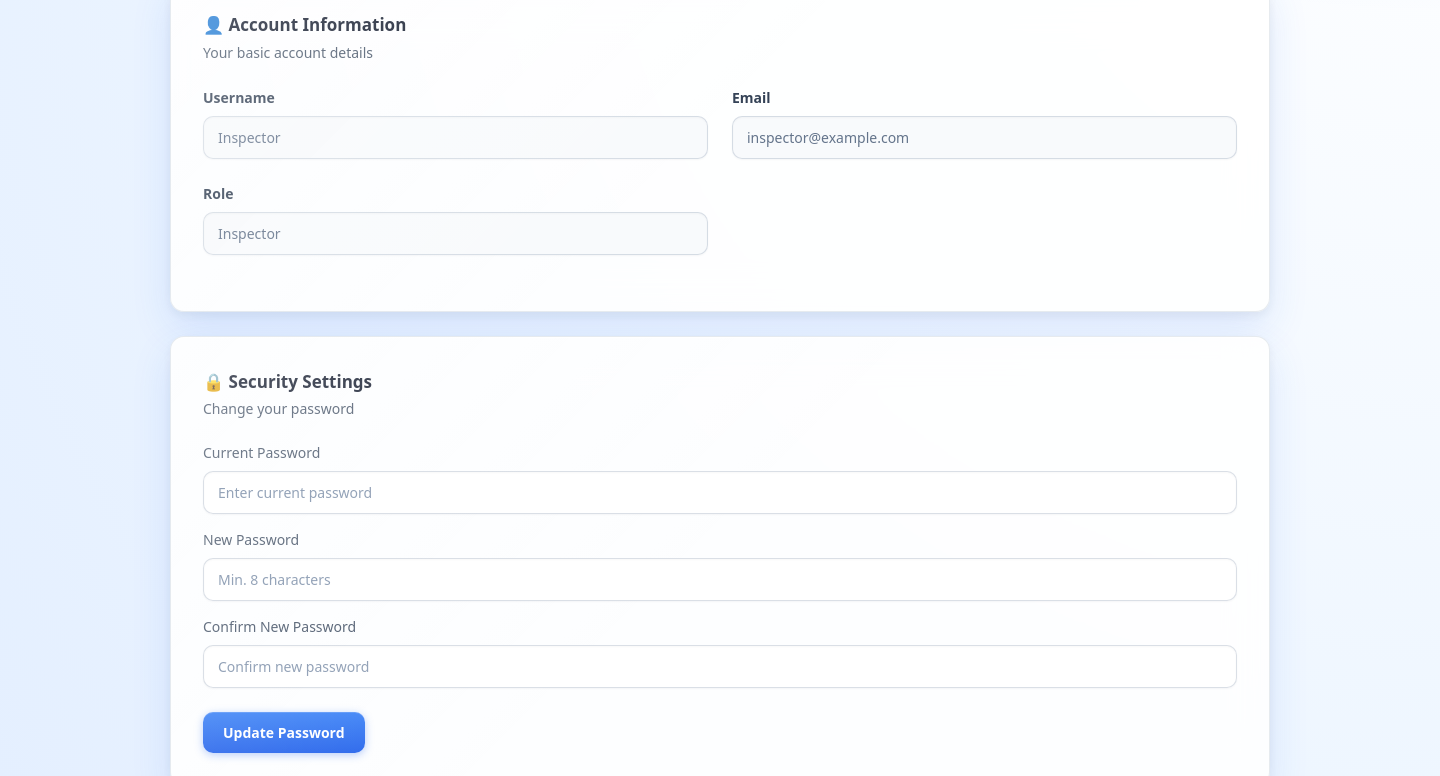
it: feature page integrations › uses stored inspector profile data and validates a new password
(page scrolled)
expect the number of fields showing "Inspector" is 2: met, box [203,116,708,158]; [203,212,708,254]
Type "short" into the password field labelled "New Password" at (720, 580), box [203,558,1237,601]
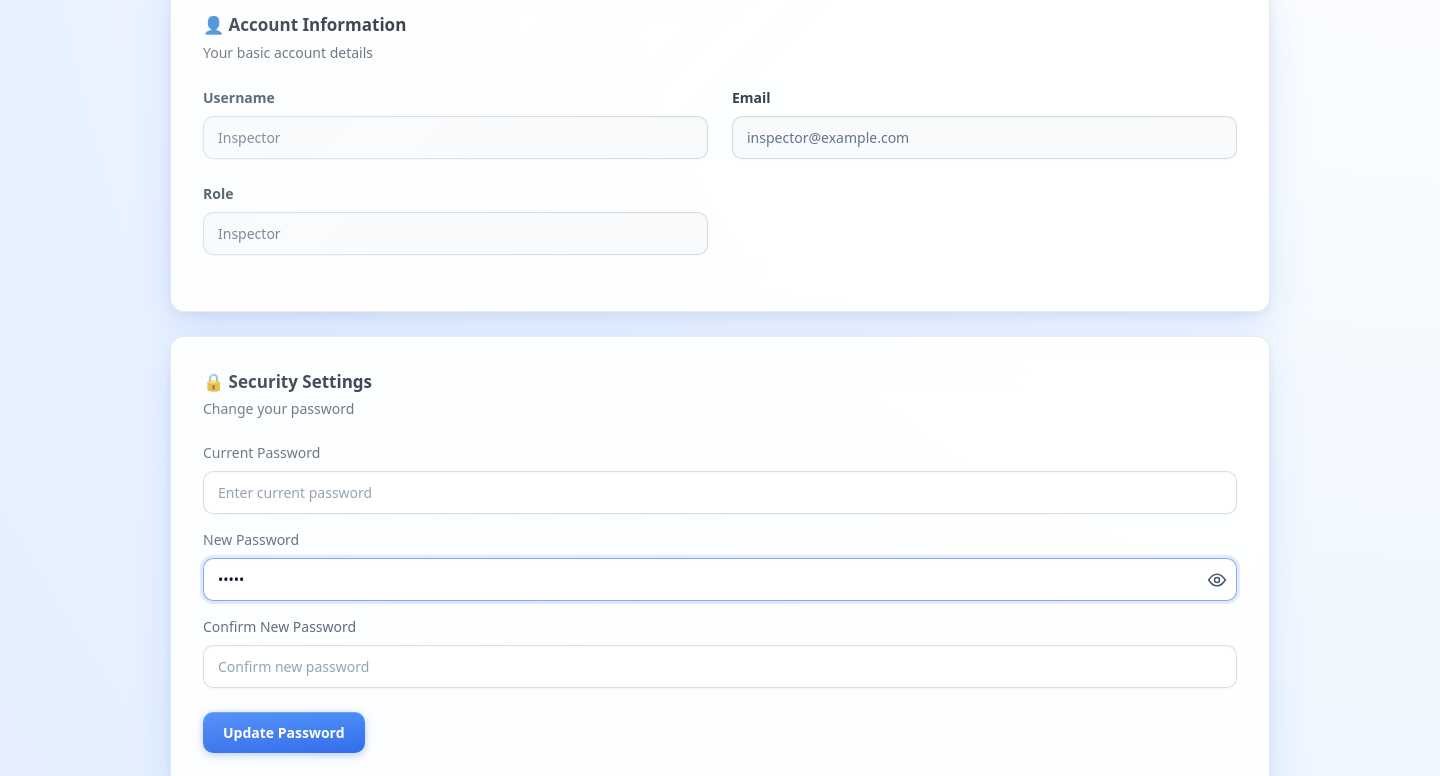
Click the button "Update Password" at (284, 732), box [203,712,364,753]
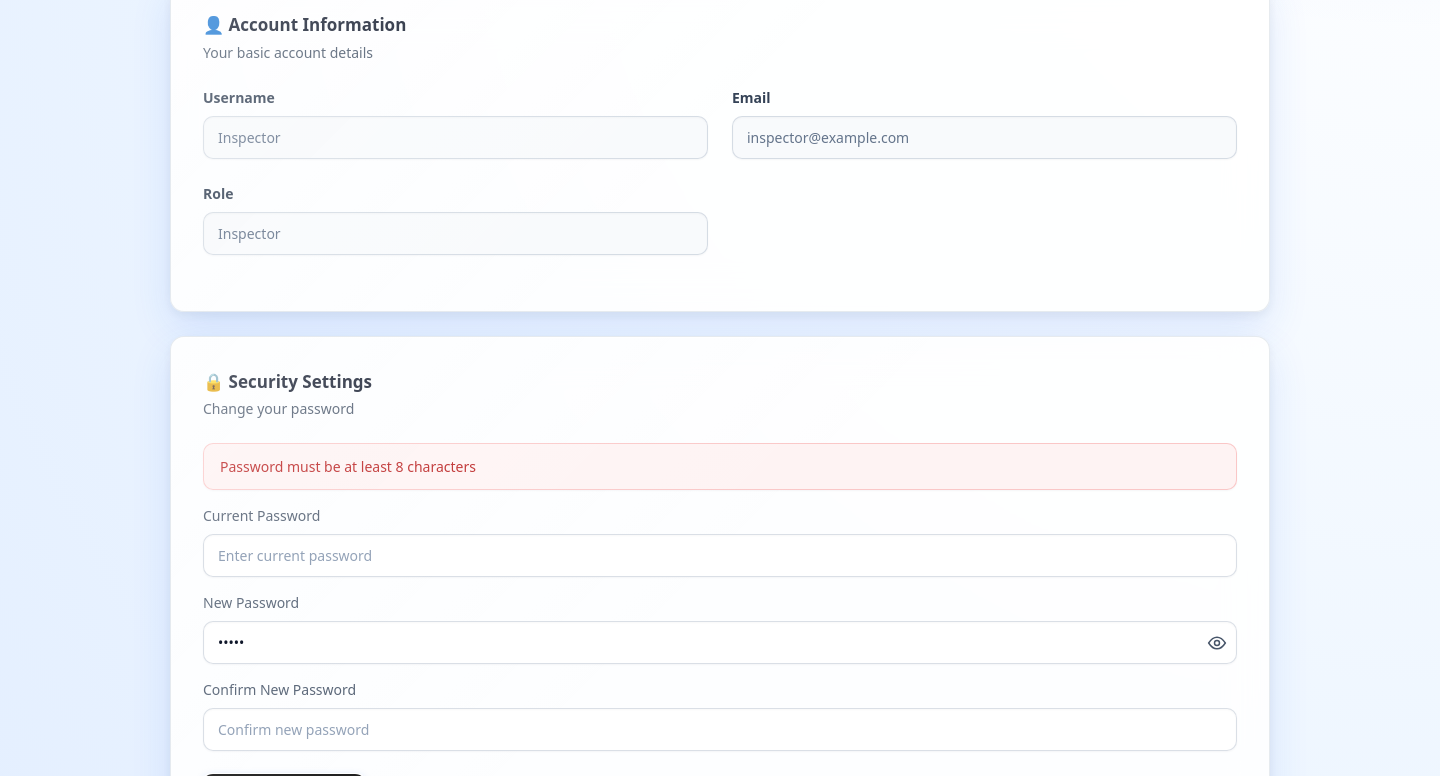
expect the text "Password must be at least 8 characters" is shown: met, box [203,443,1237,490]
